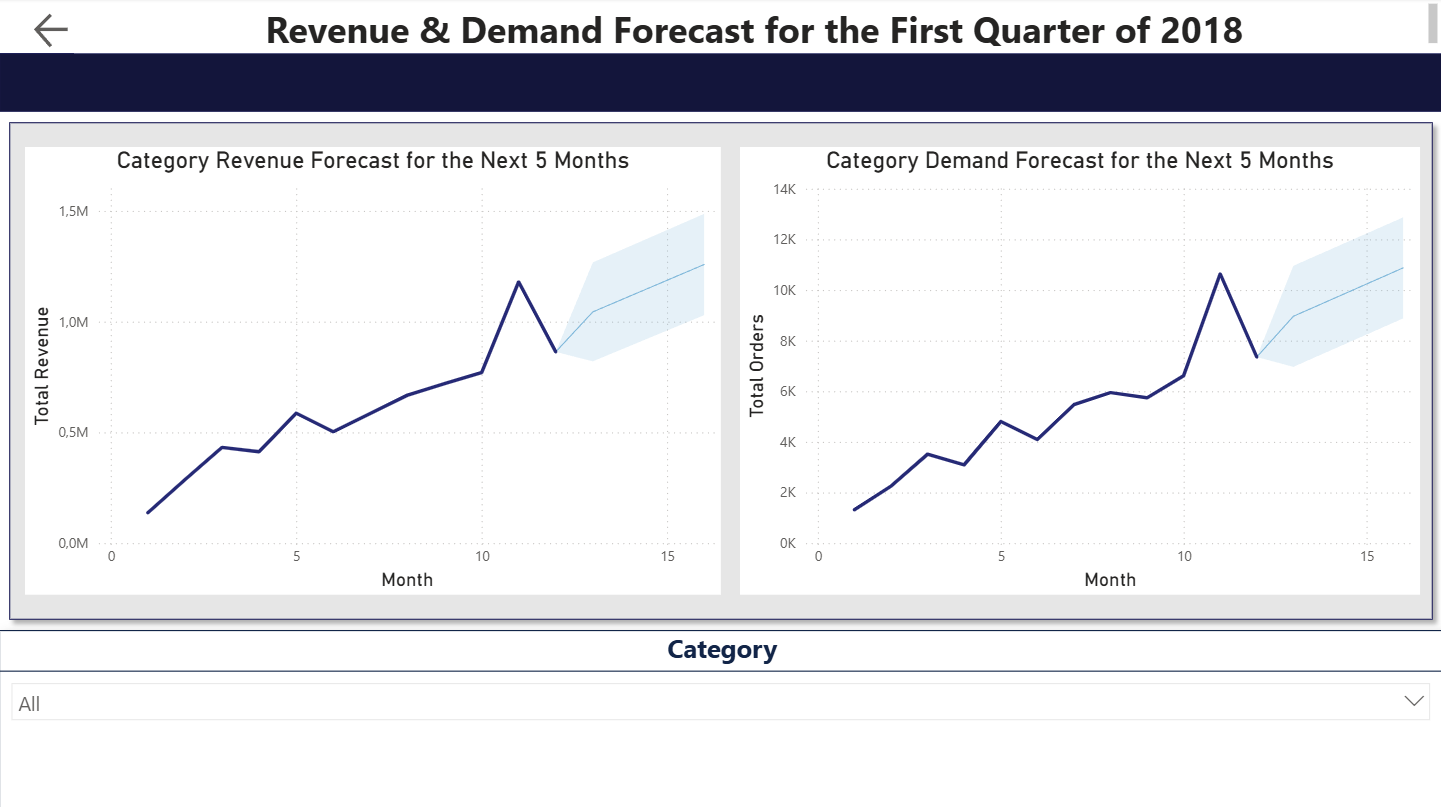

This screenshot's page, from the dashboard's own definition file:
{"tool":"powerbi","page":{"name":"Simple Trend Projection","canvas":[1280,720],"ordinal":1},"visuals":[{"type":"shape","box":[0,101.1,1280.4,459.3],"z":0},{"type":"shape","box":[0,48.8,1280.4,52.3],"z":1000},{"type":"lineChart","title":"Category Demand Forecast for the Next 5 Months","fields":{"Category":["Dashboard_2017.order_month"],"Y":["Dashboard_2017.Total Orders"]},"box":[657,132.1,603,397.2],"z":2000},{"type":"actionButton","box":[0,8.9,66.5,39.9],"z":3000},{"type":"textbox","box":[66.5,0,1213.9,48.8],"z":4000},{"type":"slicer","title":"Category","fields":{"Values":["product_category_name_translation.Column2"]},"box":[0,560.4,1280.4,159.6],"z":5000},{"type":"lineChart","title":"Category Revenue Forecast for the Next 5 Months","fields":{"Category":["Dashboard_2017.order_month"],"Y":["Dashboard_2017.Total Revenue"]},"box":[23.1,132.1,617.1,397.2],"z":6000}]}

Visuals, with their boxes on the page's 1280x720 design canvas (x1, y1, x2, y2). These are canvas units, not pixel positions in the 1441x807 screenshot, which may show the page scaled, cropped or inside an application window:
shape: 0, 101, 1280, 560
shape: 0, 49, 1280, 101
"Category Demand Forecast for the Next 5 Months" lineChart: 657, 132, 1260, 529
actionButton: 0, 9, 66, 49
textbox: 66, 0, 1280, 49
"Category" slicer: 0, 560, 1280, 720
"Category Revenue Forecast for the Next 5 Months" lineChart: 23, 132, 640, 529
